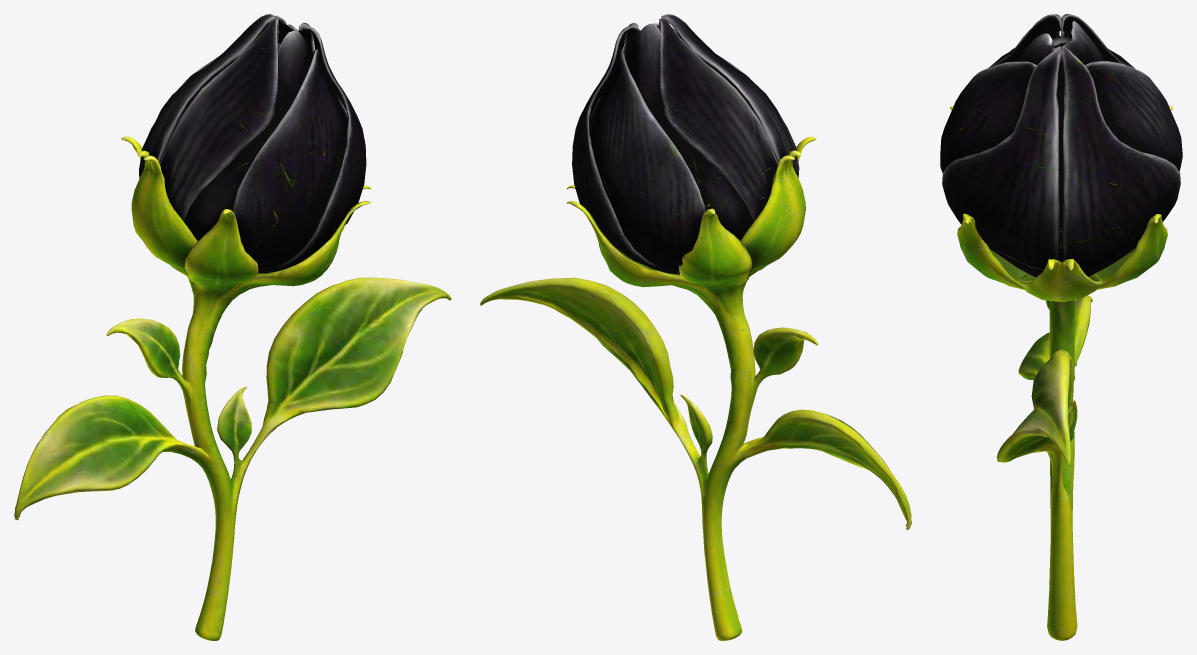
The model's file is bud_black.glb.
3 renders of one model, left to right at view 1: azimuth 30°, elevation 25°; view 2: azimuth 150°, elevation 25°; view 3: azimuth 270°, elevation 25°, orthographic. The views are drawn at different scales.
Visible parts, largest first — view 1: geometry_0; view 2: geometry_0; view 3: geometry_0.
Boxes of the visible parts, left/top/right/bottom form: geometry_0: left=14, top=14, right=451, bottom=640; geometry_0: left=480, top=14, right=911, bottom=640; geometry_0: left=940, top=14, right=1182, bottom=640.
Bounding box in the file's own units: 0.7095 × 0.9502 × 0.3184.
Materials: 1 (1 with a texture image).
